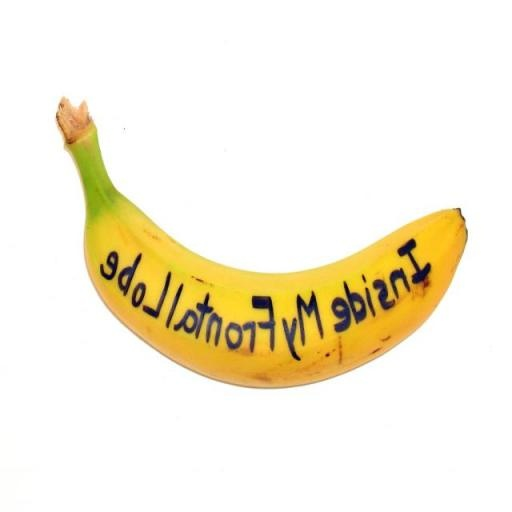fruit: (56, 99, 466, 387)
